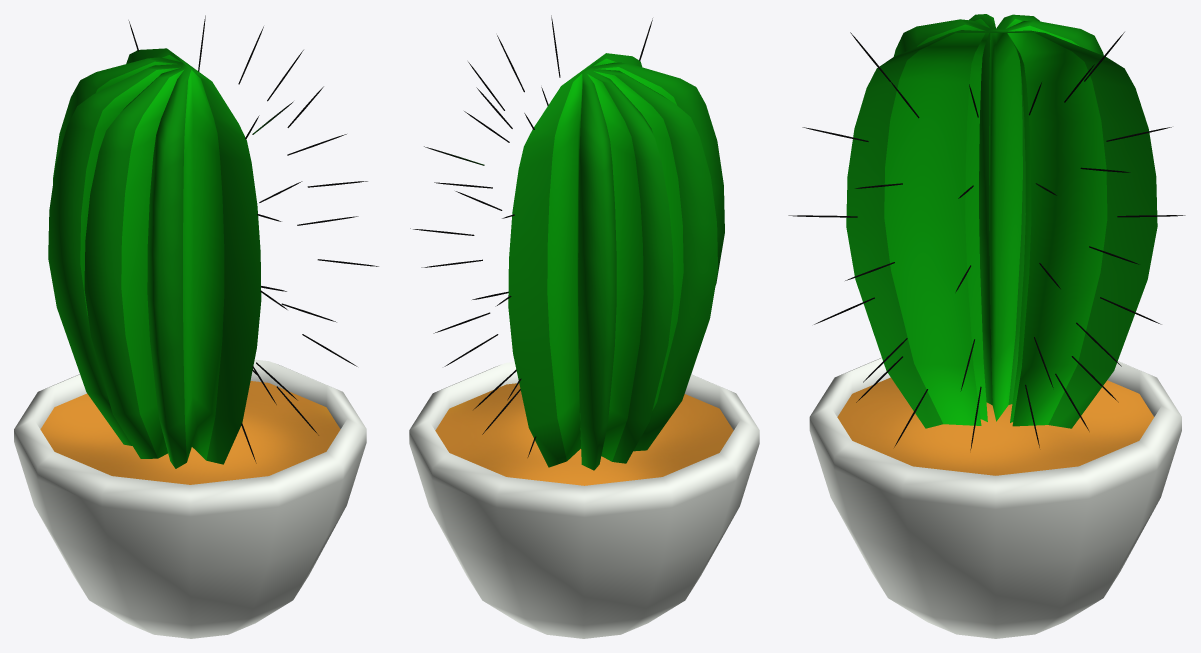
The picture shows the model from 3 angles, left to right: view 1: azimuth 30°, elevation 25°; view 2: azimuth 150°, elevation 25°; view 3: azimuth 270°, elevation 25°; orthographic projection. The views are drawn at different scales.
Visible parts, largest first — view 1: サボテン, 植木鉢, 土, 針; view 2: サボテン, 植木鉢, 土, 針; view 3: サボテン, 植木鉢, 土, 針.
Part boxes in pixels (x1,y1,x2,y2): サボテン: (48, 48, 261, 468); 植木鉢: (14, 359, 366, 638); 土: (40, 381, 340, 484); 針: (128, 15, 378, 463); サボテン: (508, 53, 724, 470); 植木鉢: (409, 362, 759, 638); 土: (435, 383, 733, 485); 針: (410, 15, 652, 457); サボテン: (846, 14, 1157, 428); 植木鉢: (809, 357, 1181, 638); 土: (837, 377, 1154, 475); 針: (788, 32, 1185, 450).
Size of the model in its own units: 2 by 3.4 by 2.14.
1 material, 1 textured.
